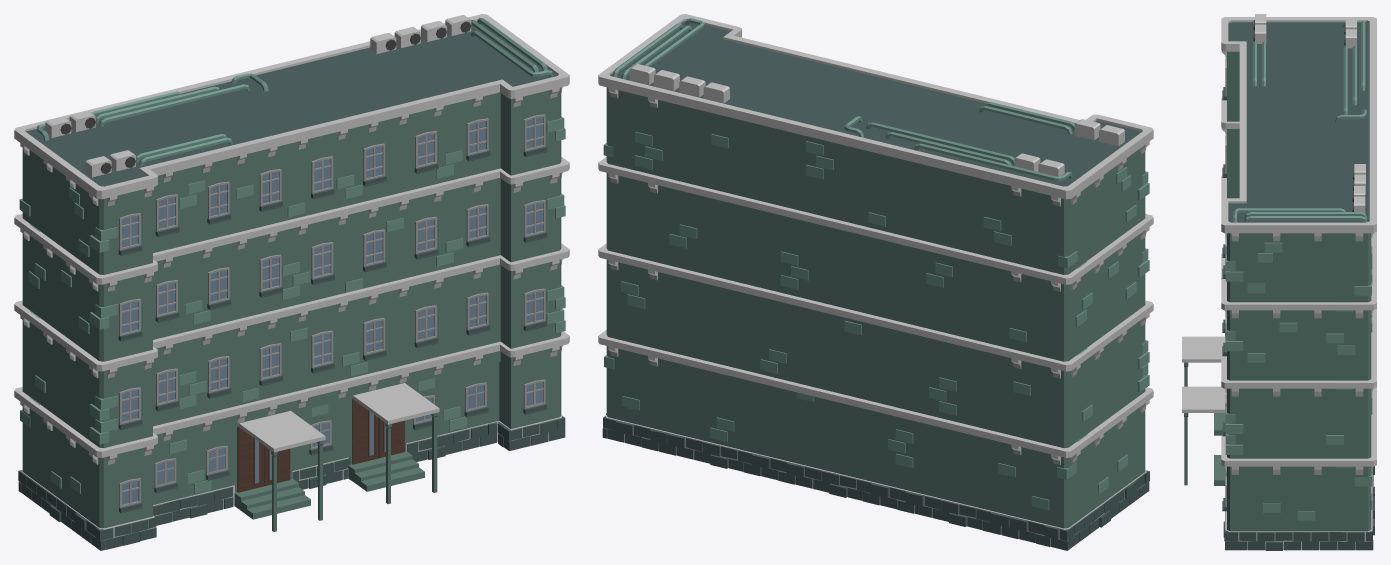
File: 4Story_Wide_2Doors_Mat.glb
3 renders of one model, left to right at view 1: azimuth 30°, elevation 25°; view 2: azimuth 150°, elevation 25°; view 3: azimuth 270°, elevation 25°, orthographic. The views are drawn at different scales.
Parts seen in each view (by area): view 1: 4Story_Wide_2Doors_Mat; view 2: 4Story_Wide_2Doors_Mat; view 3: 4Story_Wide_2Doors_Mat.
Part boxes in pixels (x1,y1,x2,y2): 4Story_Wide_2Doors_Mat: [14, 14, 569, 550]; 4Story_Wide_2Doors_Mat: [598, 14, 1153, 550]; 4Story_Wide_2Doors_Mat: [1182, 14, 1376, 550].
Size of the model in its own units: 6.83 by 5.15 by 2.7.
